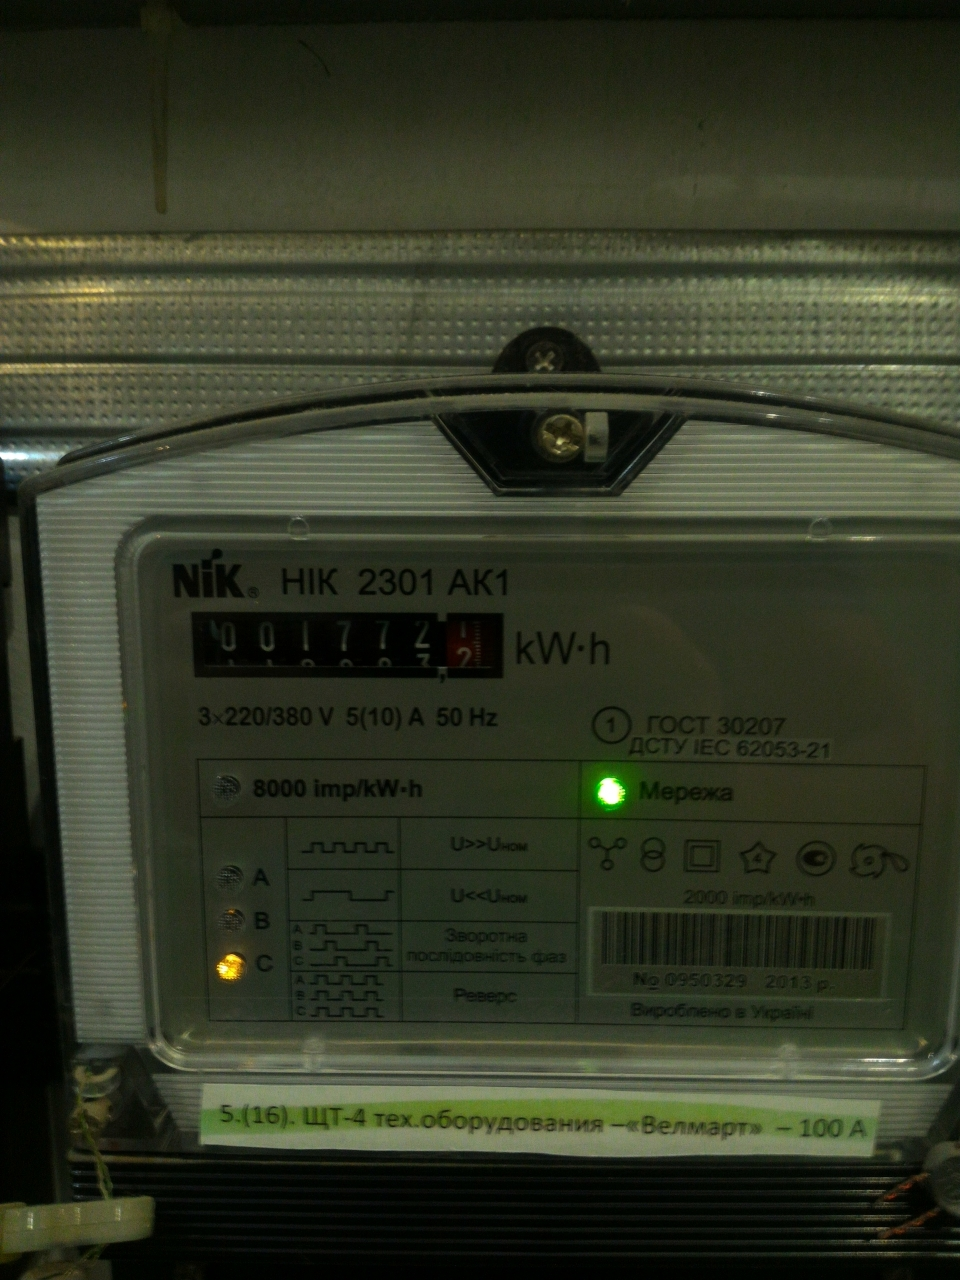0: (256, 619, 278, 654), (218, 619, 239, 653)
1: (298, 618, 314, 655), (455, 616, 472, 640)
2: (412, 618, 433, 651), (455, 645, 474, 670)
7: (334, 618, 353, 655), (373, 617, 392, 652)
screen: (175, 597, 521, 693)
